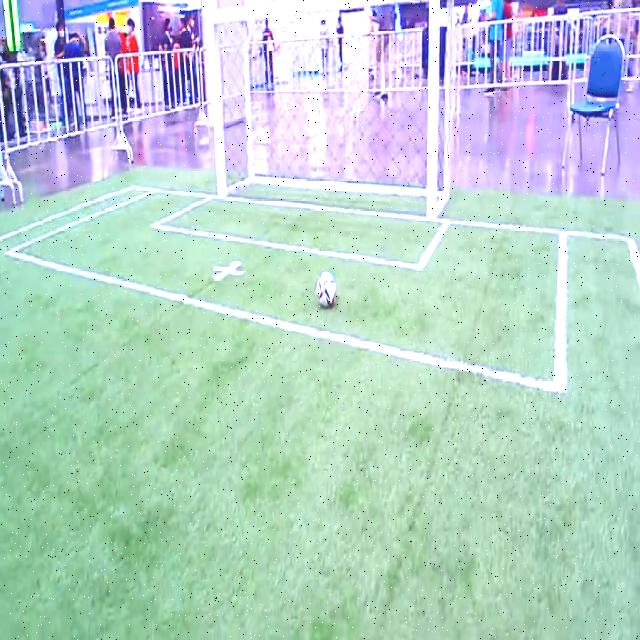ball: (316, 271, 336, 307)
